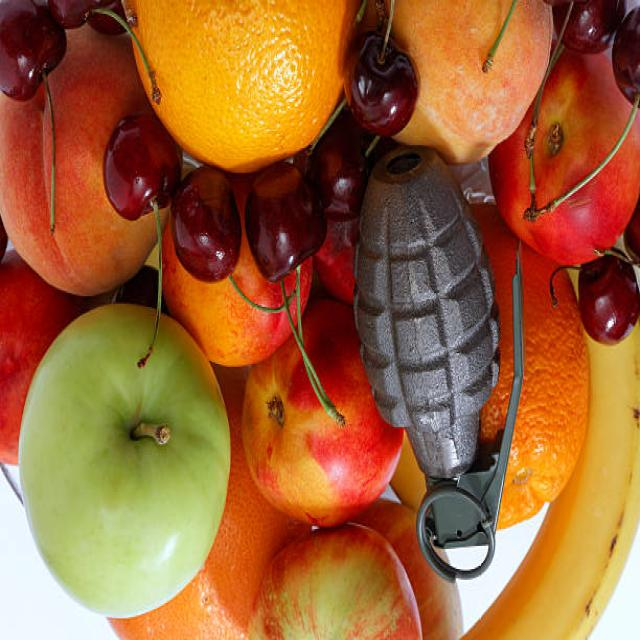grenade: (348, 144, 532, 584)
